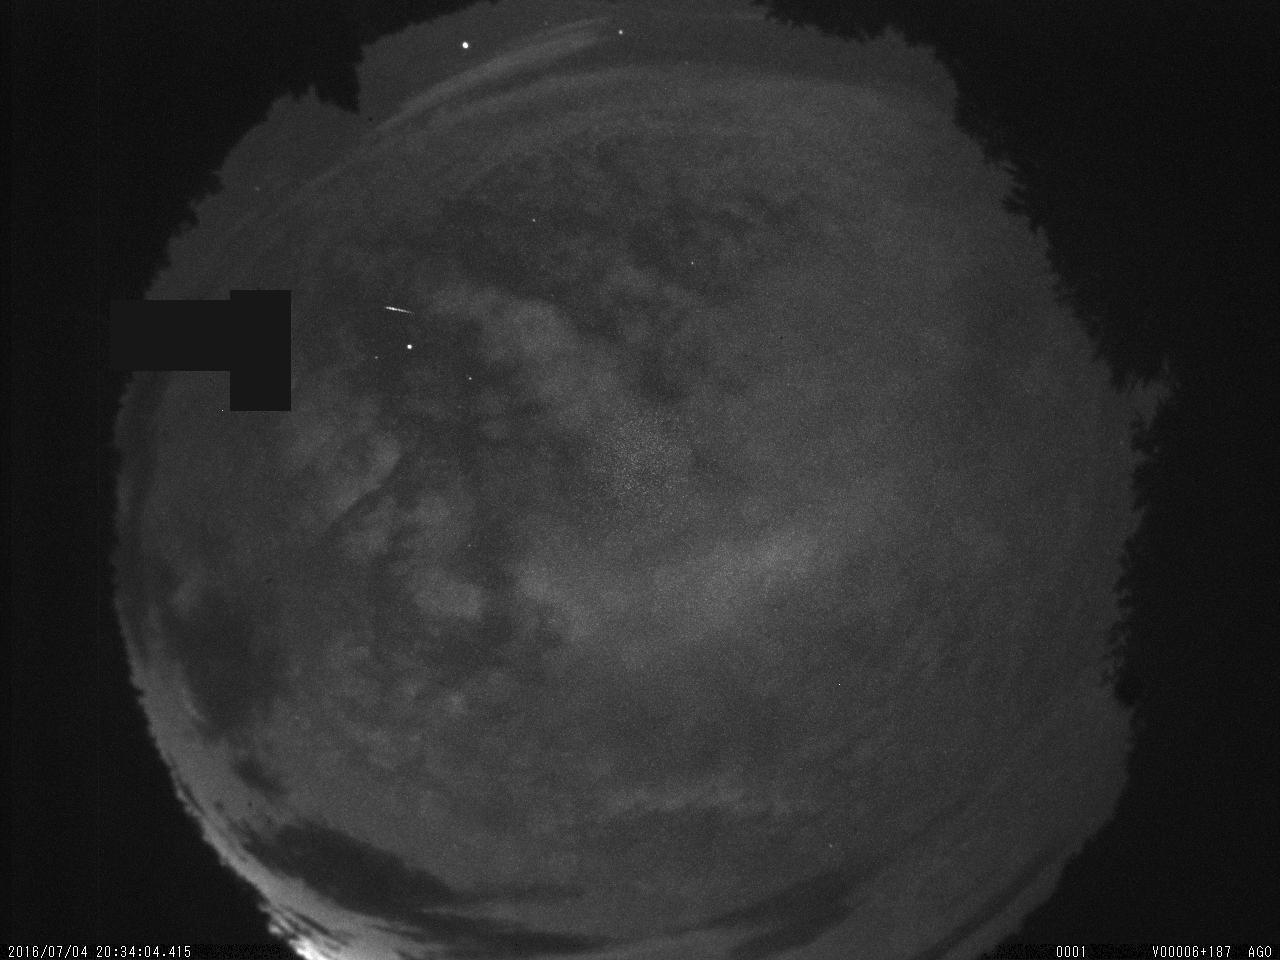meteor: (378, 301, 423, 323)
